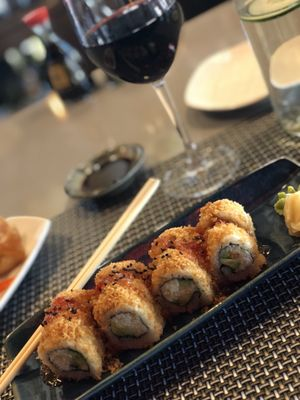pizza: (234, 0, 300, 102), (268, 33, 300, 140)
sushi: (63, 143, 146, 200)
